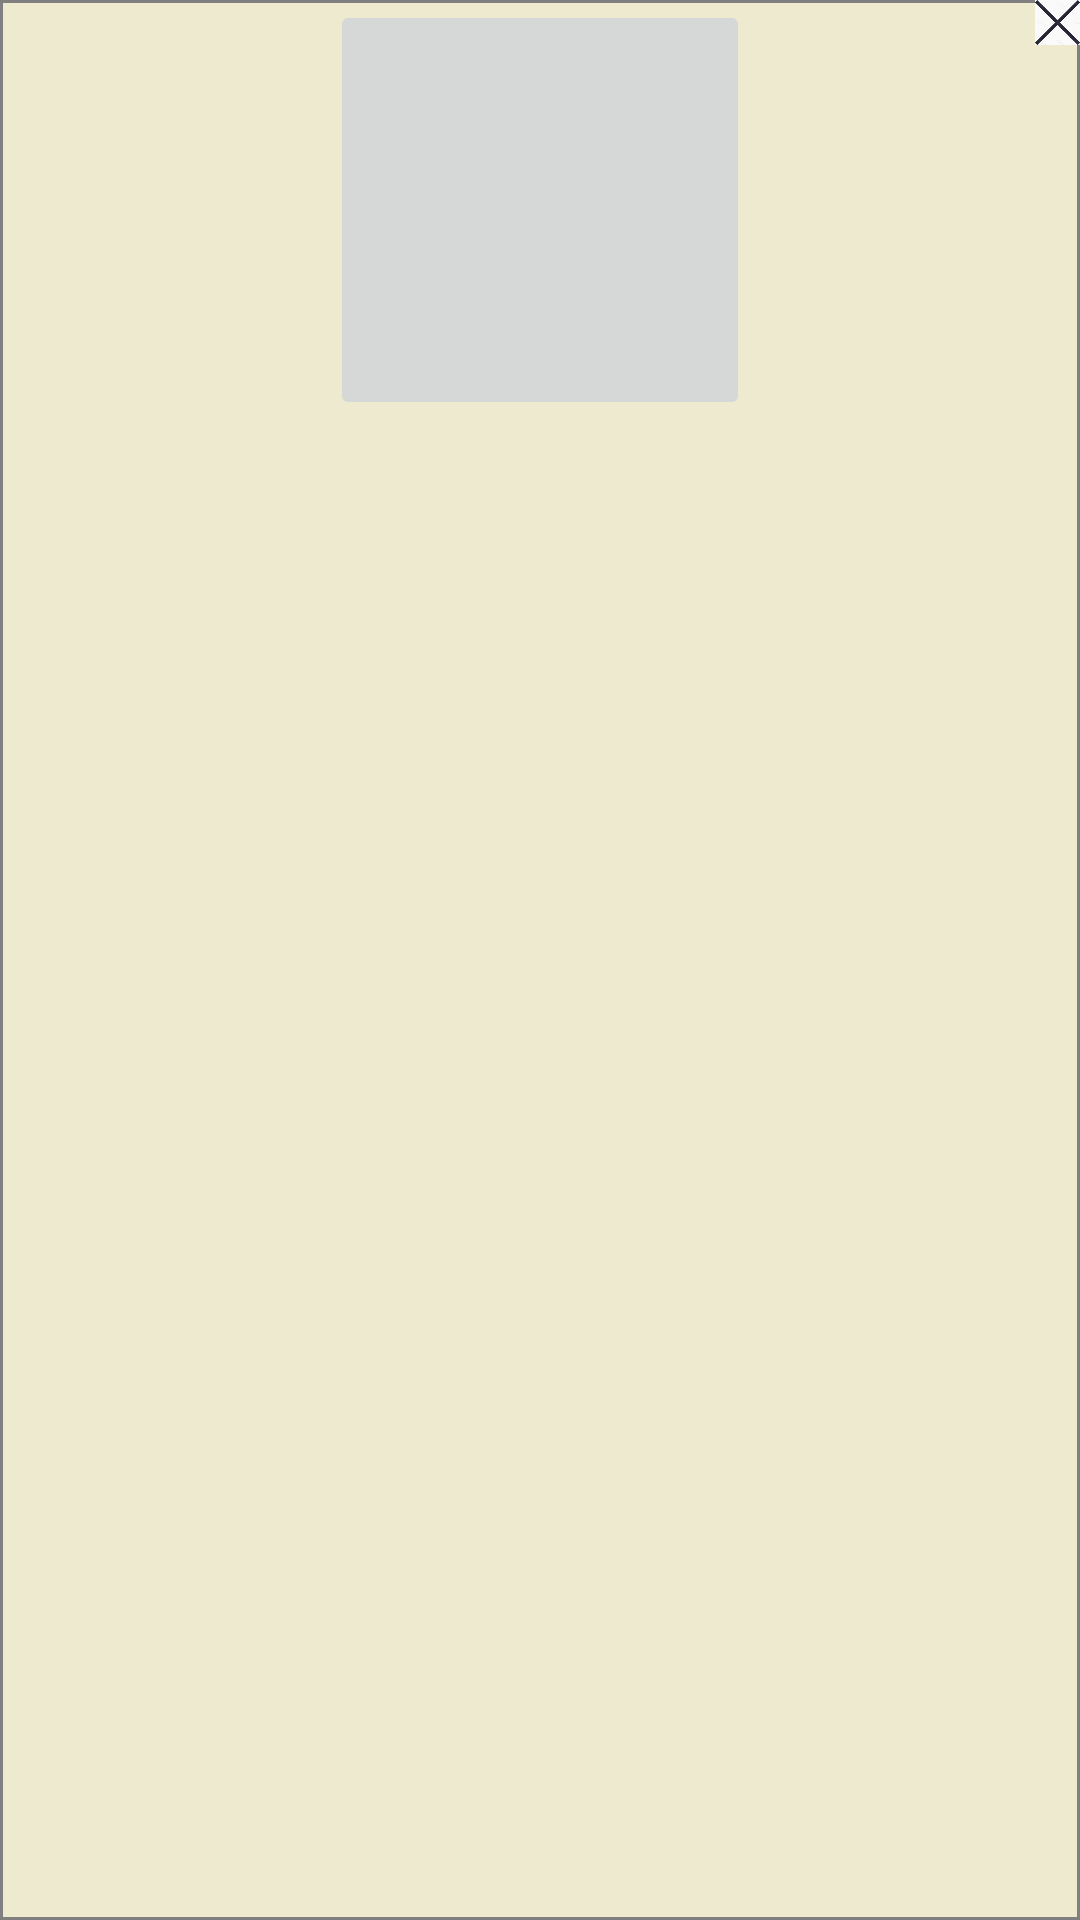

Named icons in this screenshot (1080 x 1920) and their bounding boxes, (x1,y1,x2,y2):
delete: (1035,0,1080,45)
